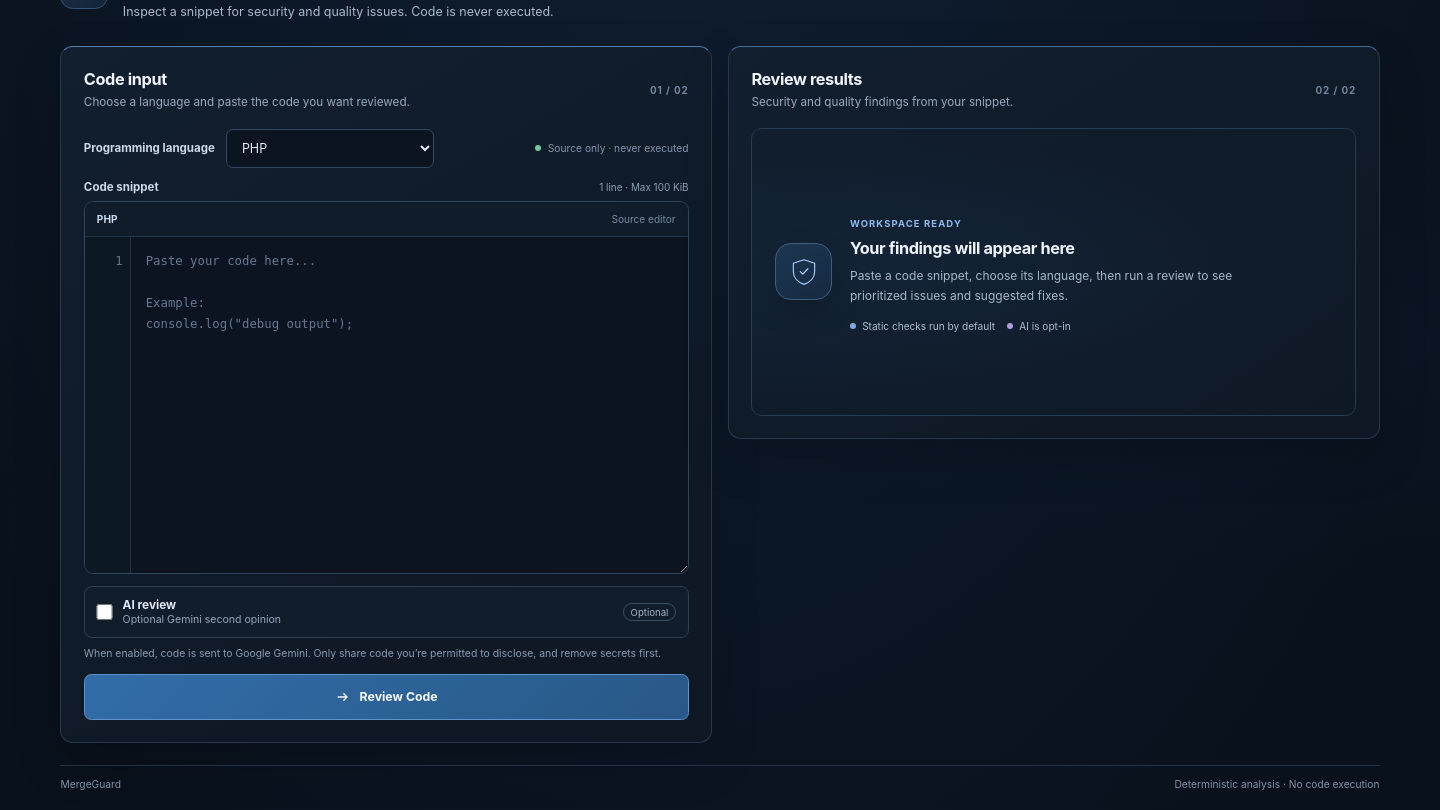
MergeGuard review workflow › asks for code locally instead of submitting an empty snippet
(page scrolled)
Click the button "Review Code" at [386, 697], box 84,674 -> 689,720
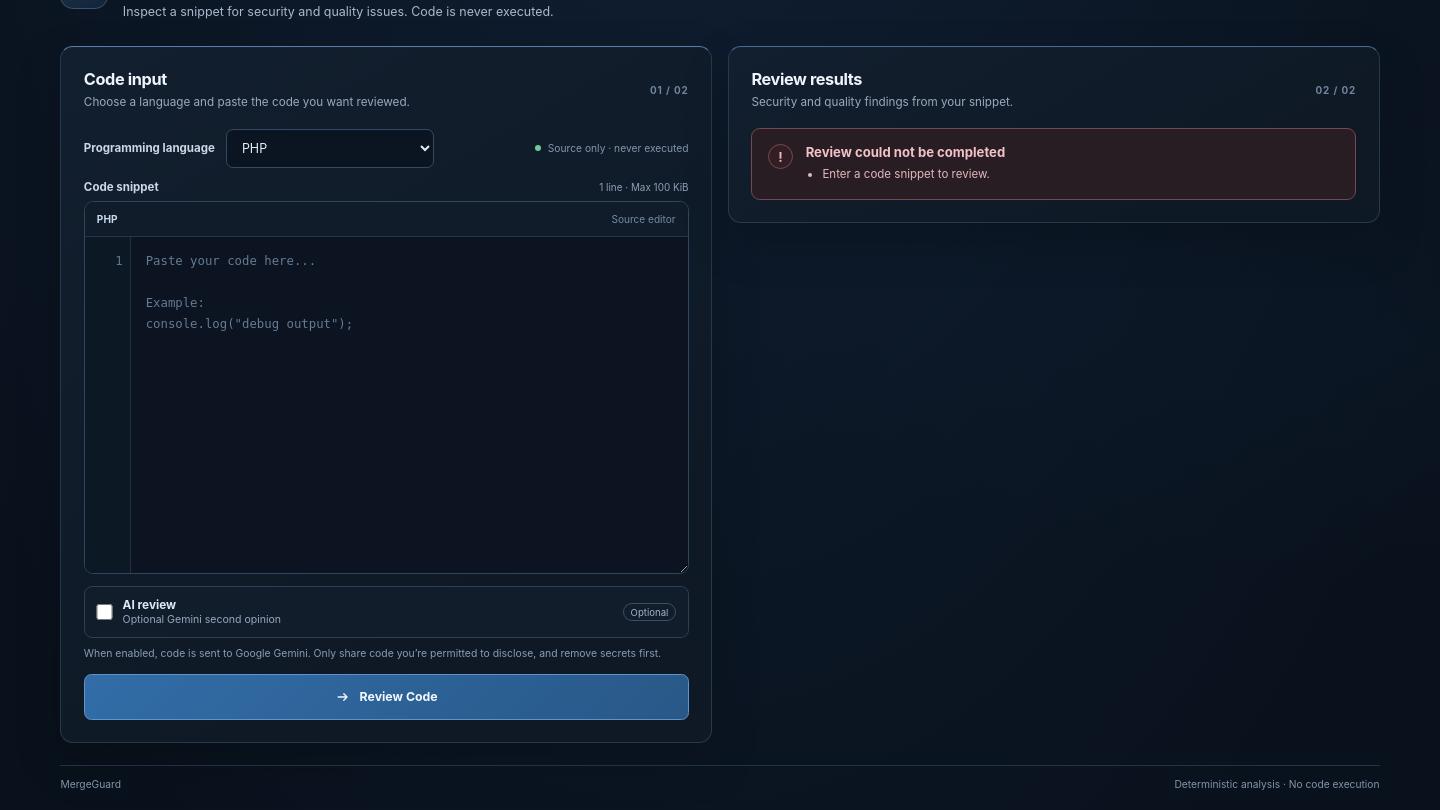
Check: the list item "Enter a code snippet to review." is shown, box 822,166 -> 1005,184
